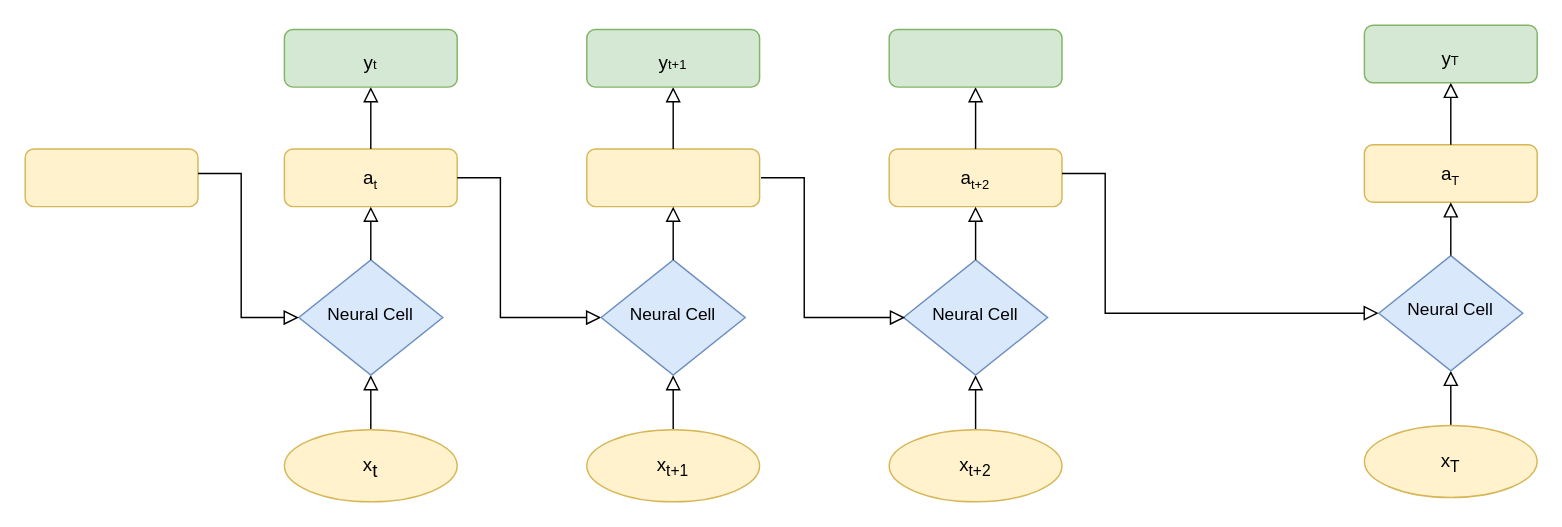
Image size: 1562x527. Some labels were removed from this diagram. The centre of each missing label's shape, as x and y in pixels:
a t+1: the point at 672,177
a t-1: the point at 111,177
y t+2: the point at 975,57
